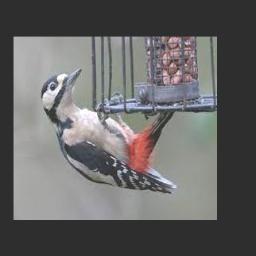Woodpecker: (41, 67, 176, 194)
